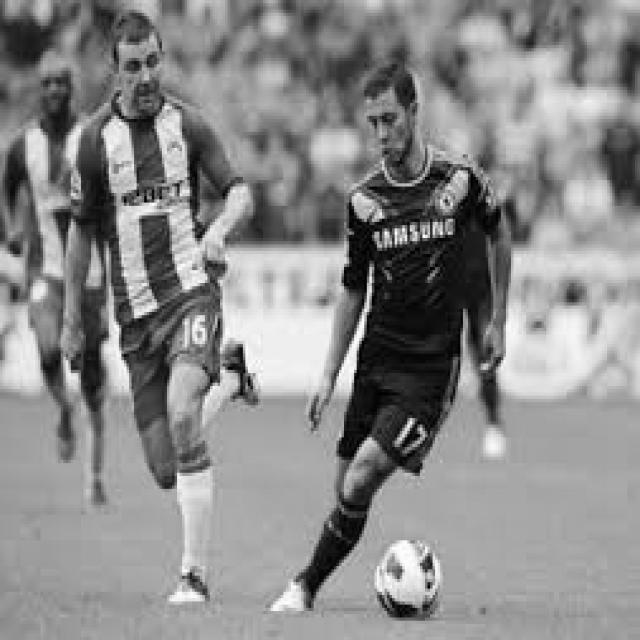football: (376, 530, 449, 627)
